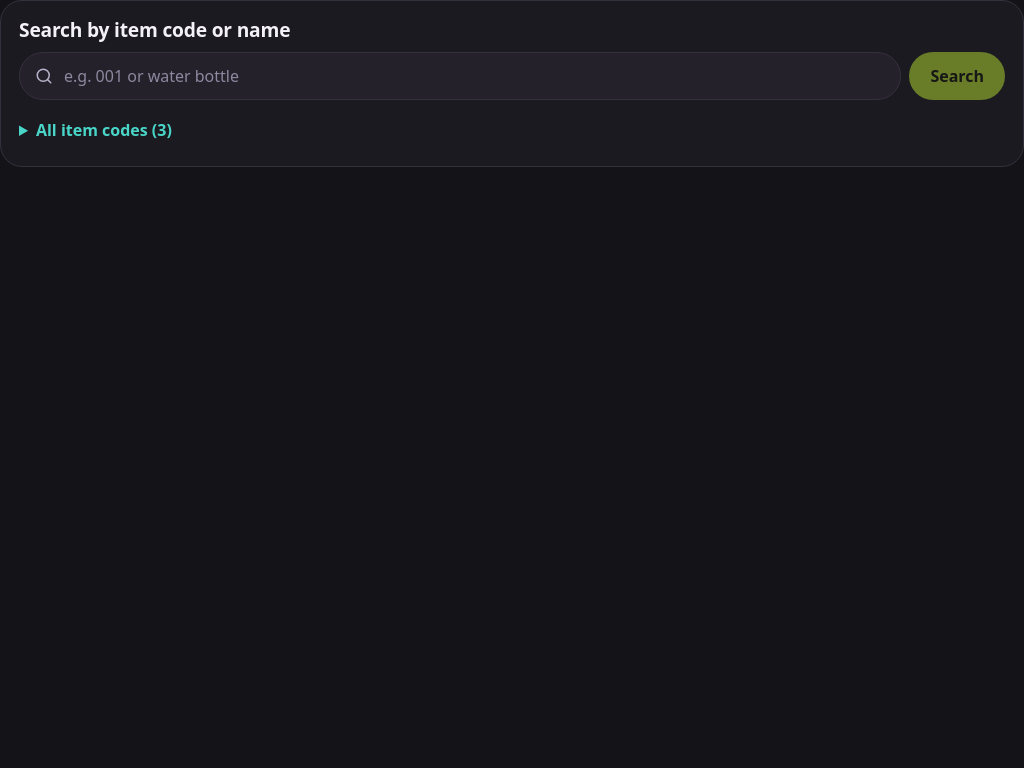
Test case: typing a code shows the item's recycling and upcycling methods
The width and height of the screenshot is (1024, 768).
Expected: the heading "All item codes (3)" is shown, [36,119,172,141]
Type "001" into the search field named "Item code or name".
click(460, 76); type("001")  # box [19,52,901,100]
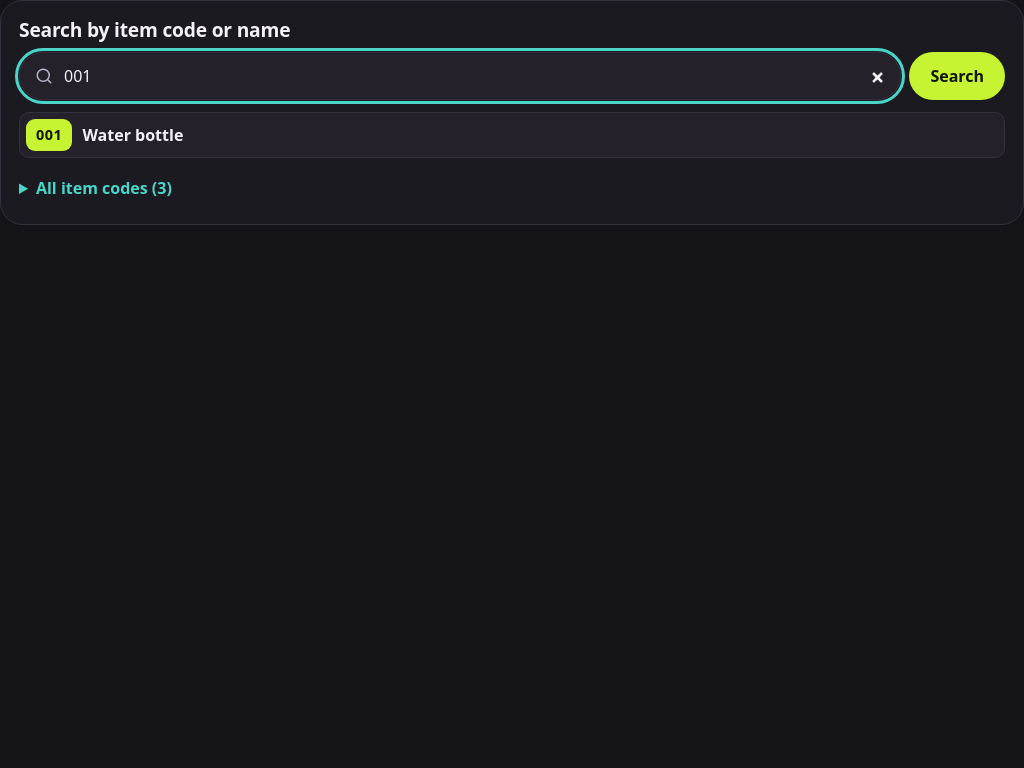
Click the button "Search".
click(957, 76)  # box [909,52,1005,100]
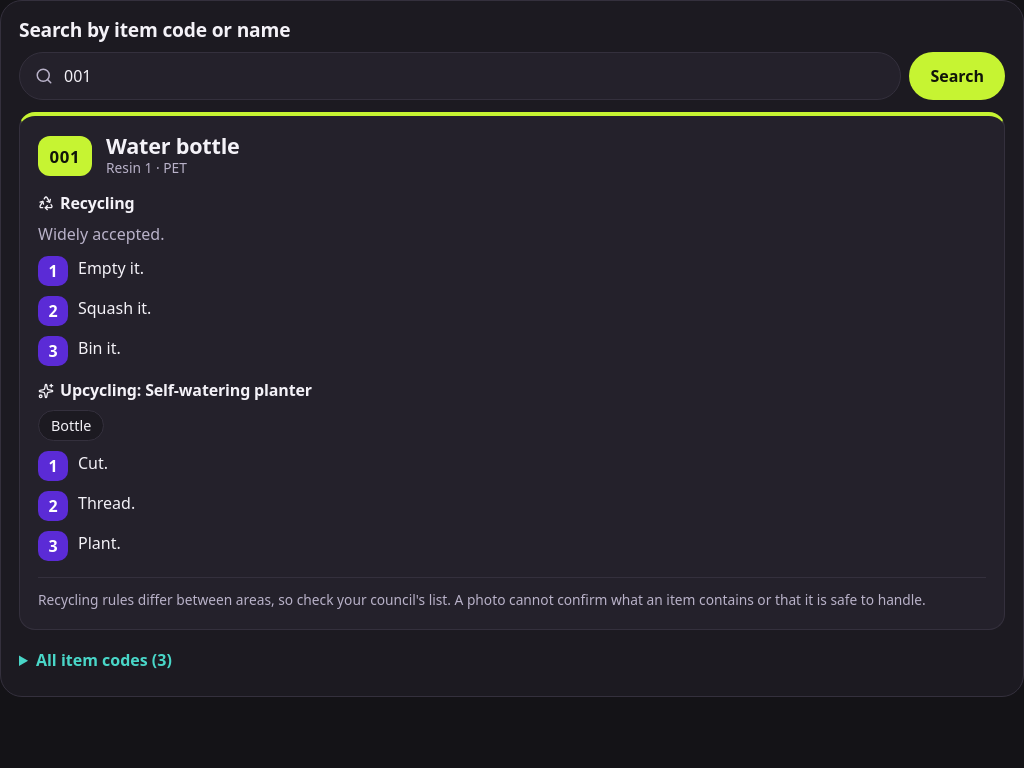
Now the heading "Water bottle" is shown, box [106,134,240,158]
Now the text named "Item code 001" is shown, box [38,136,92,176]
Now the heading "Recycling" is shown, box [38,192,134,214]
